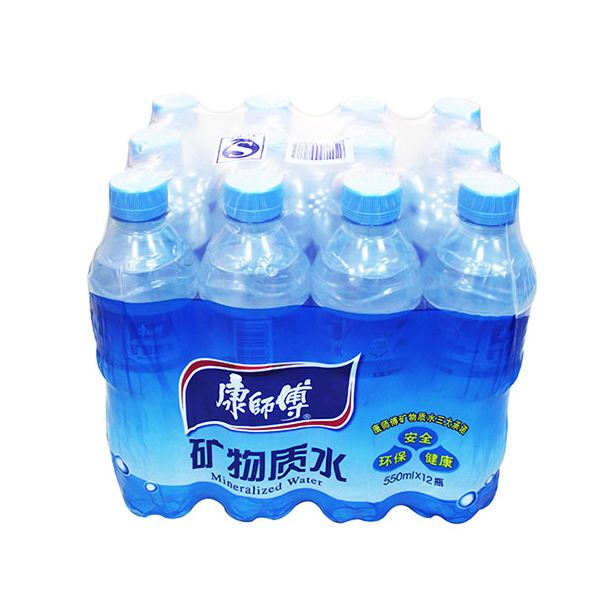amwater: (91, 81, 532, 541)
